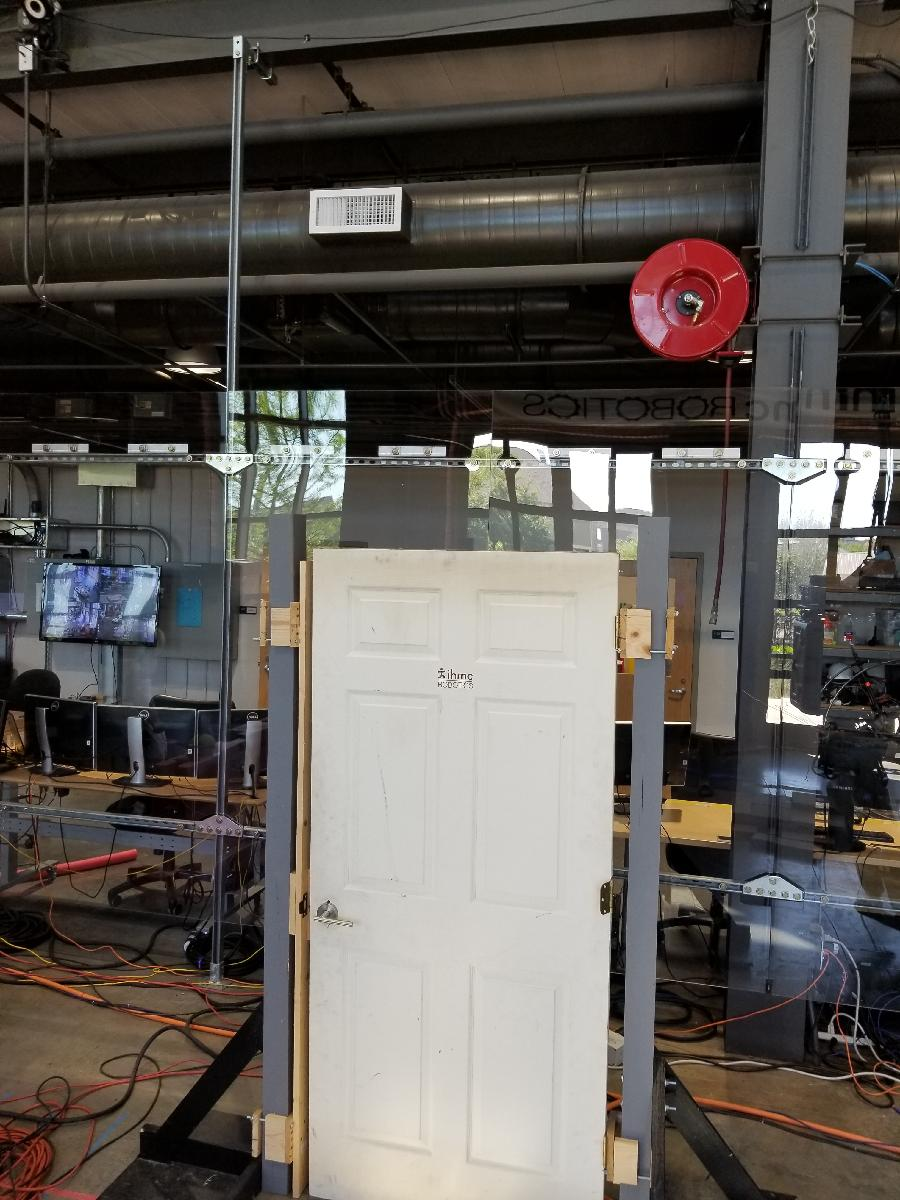door: (305, 544, 622, 1200)
doorHandle: (307, 884, 356, 936)
